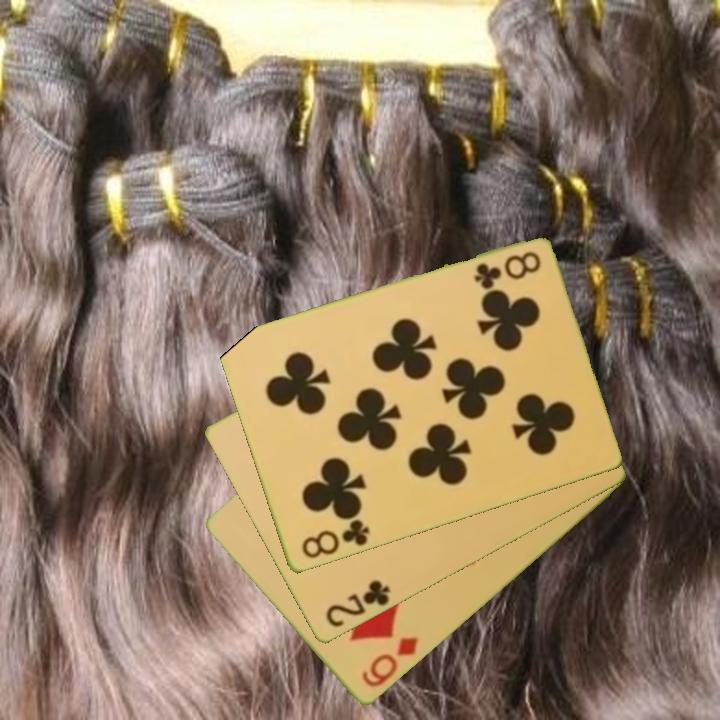2c: (321, 577, 393, 631)
6d: (358, 634, 422, 691)
8c: (298, 516, 373, 562), (470, 248, 544, 292)
